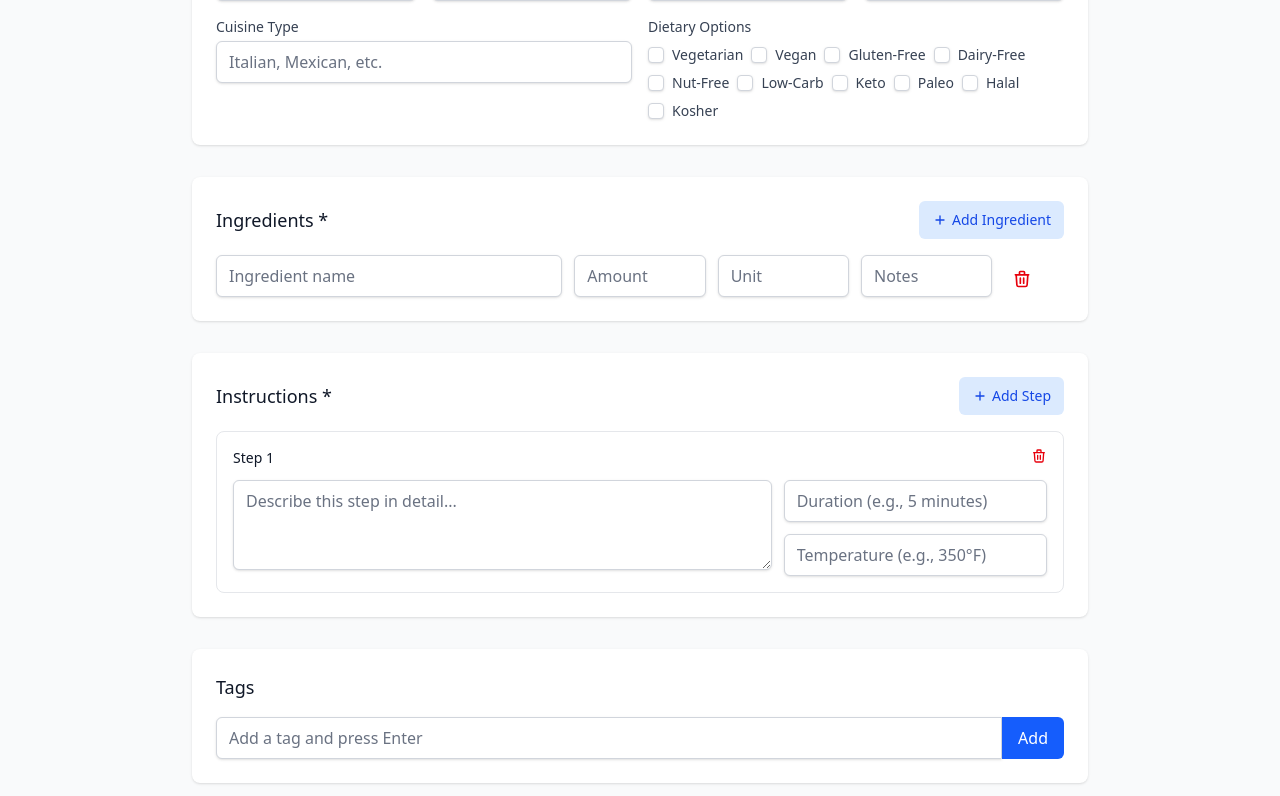
Test: RecipeForm › Create Mode › allows adding and removing instructions
The width and height of the screenshot is (1280, 796).
(page scrolled)
Expected: the number of text boxes with placeholder "Describe this step in detail..." is 1, [233,480,772,570]
// Add instruction
Click the button "Add Step" at (1011, 396), box [959,377,1064,415]
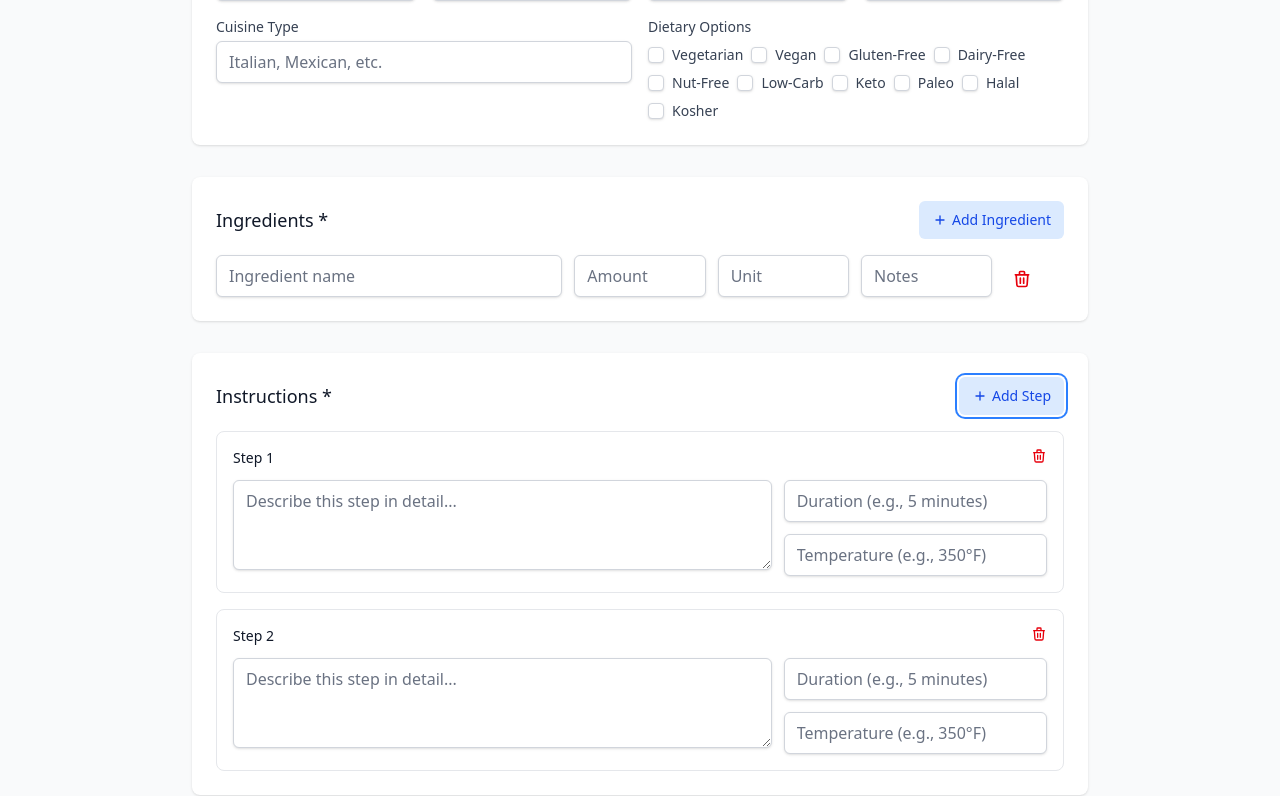
Expected: the number of text boxes with placeholder "Describe this step in detail..." is 2, [233,480,772,570]; [233,658,772,748]
Expected: the heading "Step 2" is shown, [233,626,274,646]
